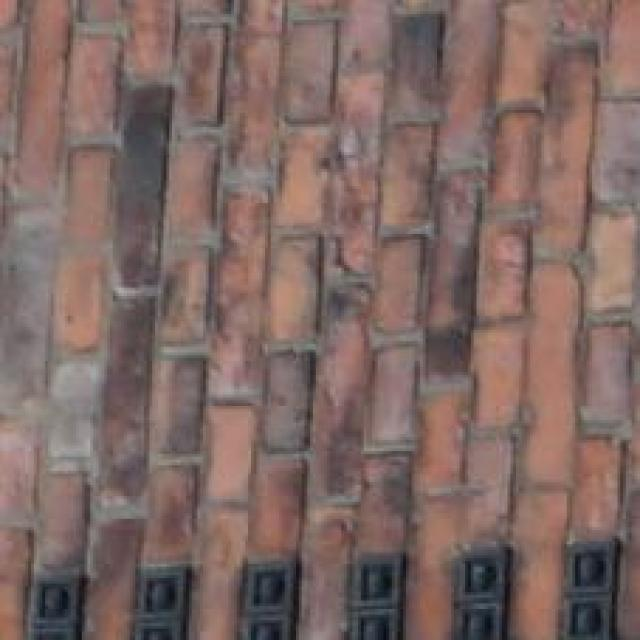Crack: (133, 53, 568, 451)
